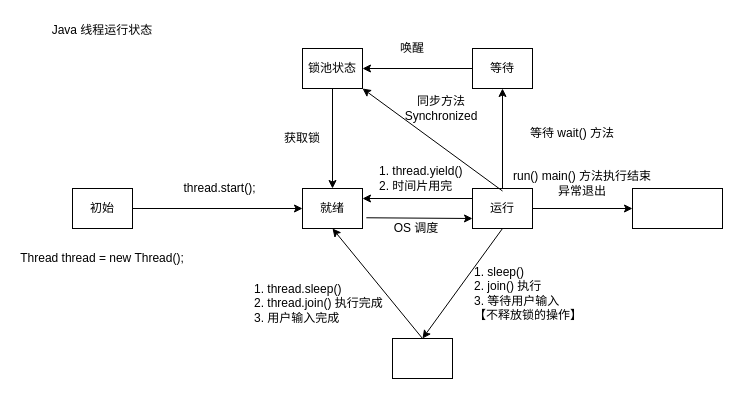
Image size: 740x396. Some labels were removed from this diagram. The shapes that lost their labels are listed below. From the top down, each one's centre as x and y in pixels, then its label:
point (677, 208): 结束/异常中止
point (422, 358): 阻塞
